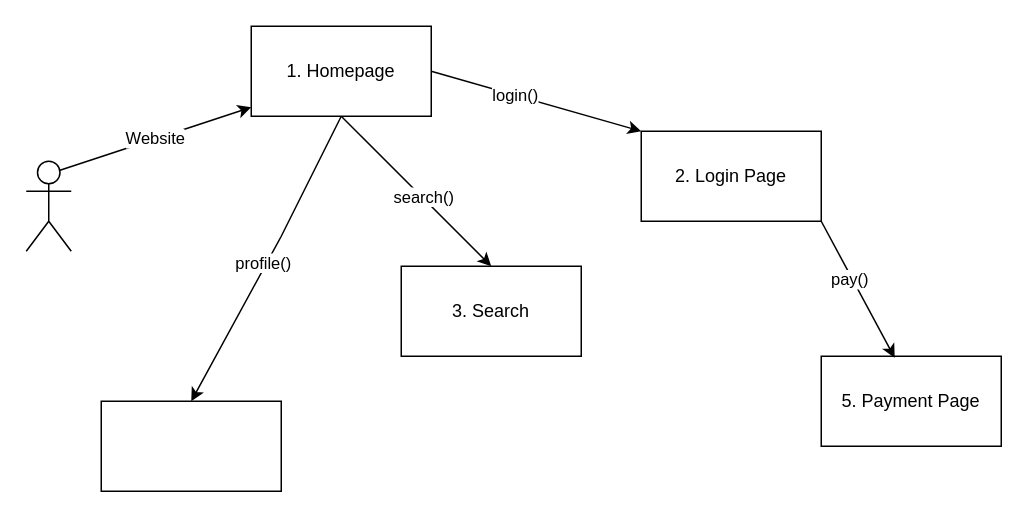
Image size: 1028x518. Some labels were removed from this diagram. The shapes that lost their labels are listed below. From the top down, each one's box as (x1, y1, x2, y2) in pixels, then its label:
(25, 160, 71, 251): Actor
(100, 400, 281, 491): 4. Profile Page
